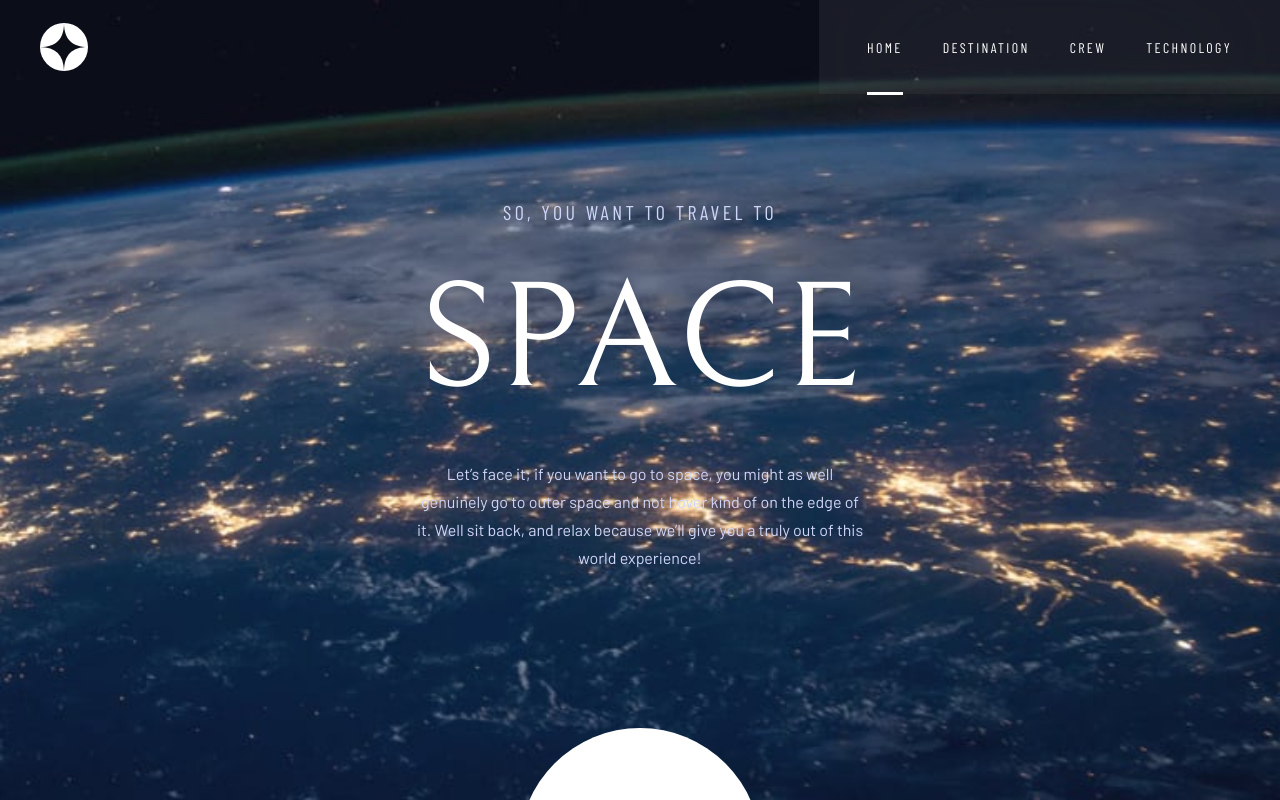
Test: Clicking on a link redirects to the correct page › Can visit crew page
Click the link "Crew".
click(1089, 48)  # box [1070,39,1107,56]
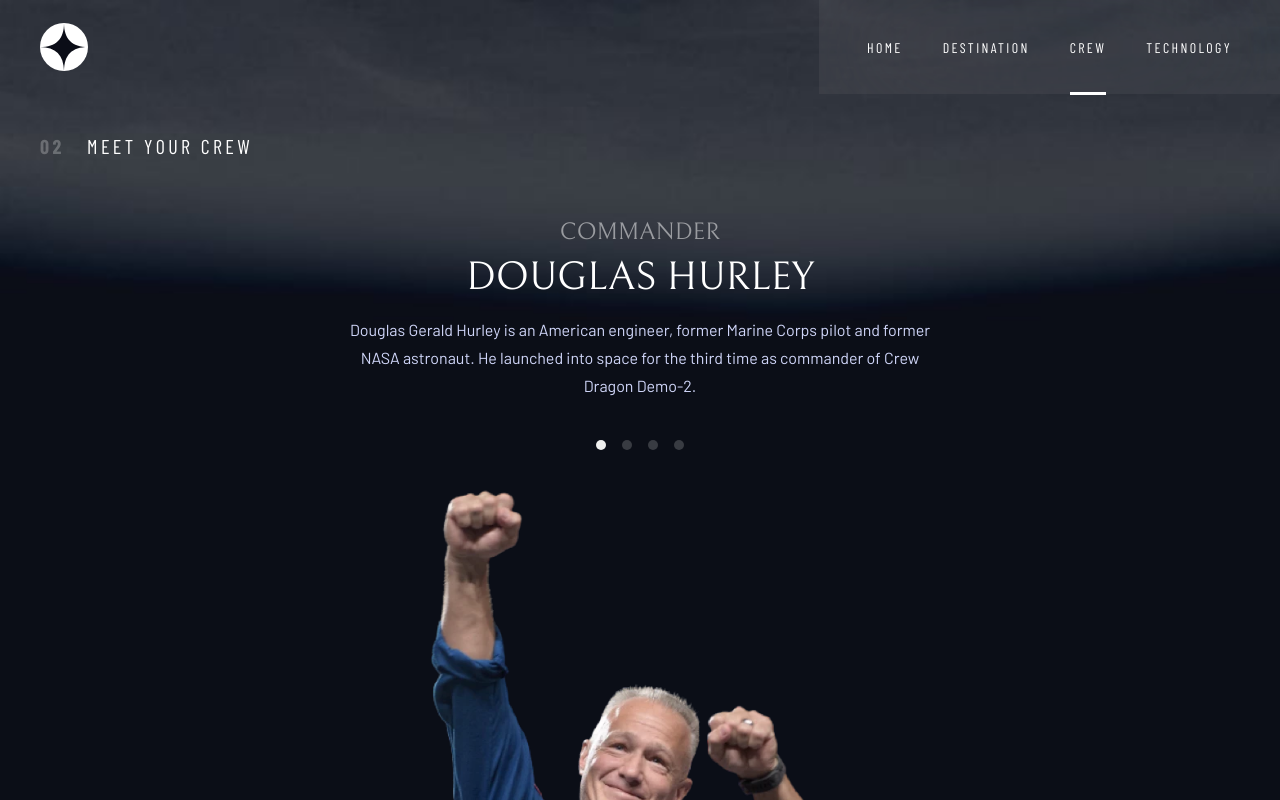
Expected: the heading "02Meet your crew" is shown, [40,134,253,158]
